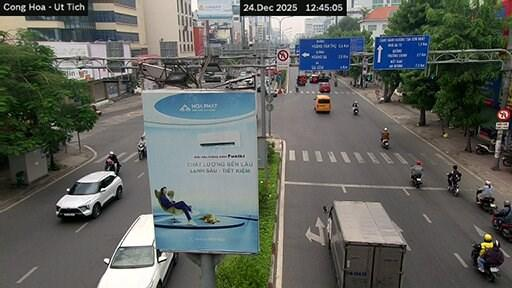motorbike: (471, 243, 499, 281), (476, 189, 497, 213), (492, 215, 511, 240), (475, 140, 495, 154), (104, 158, 119, 173), (448, 177, 459, 195), (137, 143, 146, 159), (411, 174, 422, 187), (502, 153, 512, 167), (381, 139, 388, 148), (352, 107, 358, 114), (334, 80, 337, 86)
